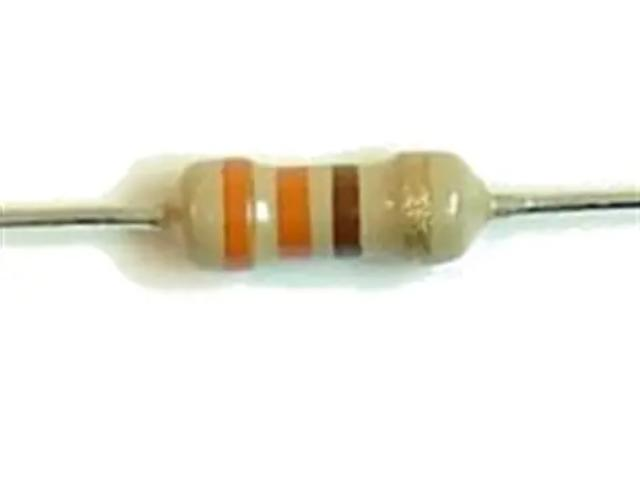brown: (330, 163, 361, 257)
orange: (217, 156, 255, 271), (278, 164, 314, 266)
resistor: (69, 97, 574, 321)
silver: (393, 153, 436, 267)
